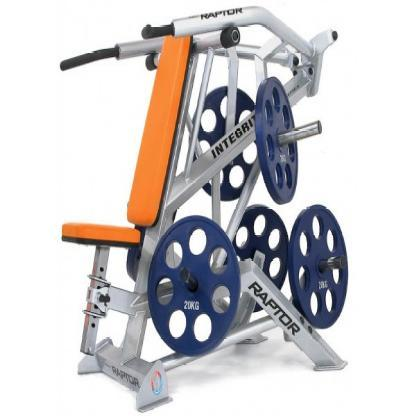shoulder press machine: (59, 4, 349, 409)
